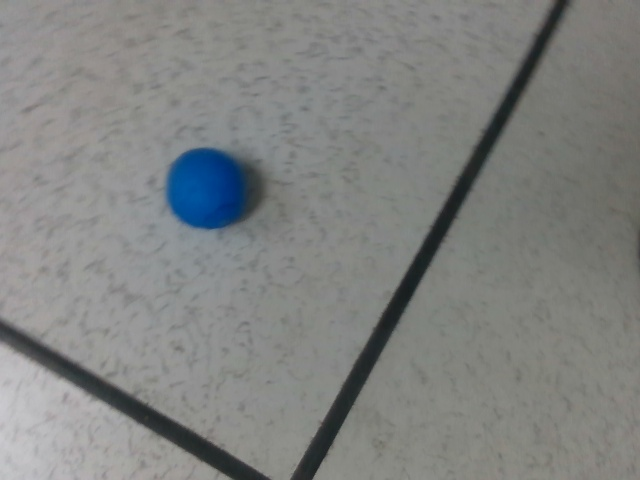blueball: (159, 141, 250, 233)
